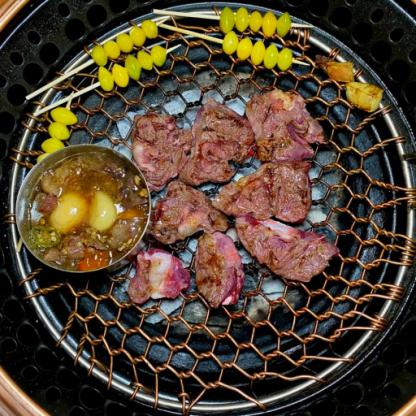Carne: (241, 209, 336, 290), (171, 104, 257, 184), (250, 88, 326, 169), (221, 161, 318, 222), (142, 176, 225, 245), (133, 112, 191, 188), (192, 230, 247, 310)
